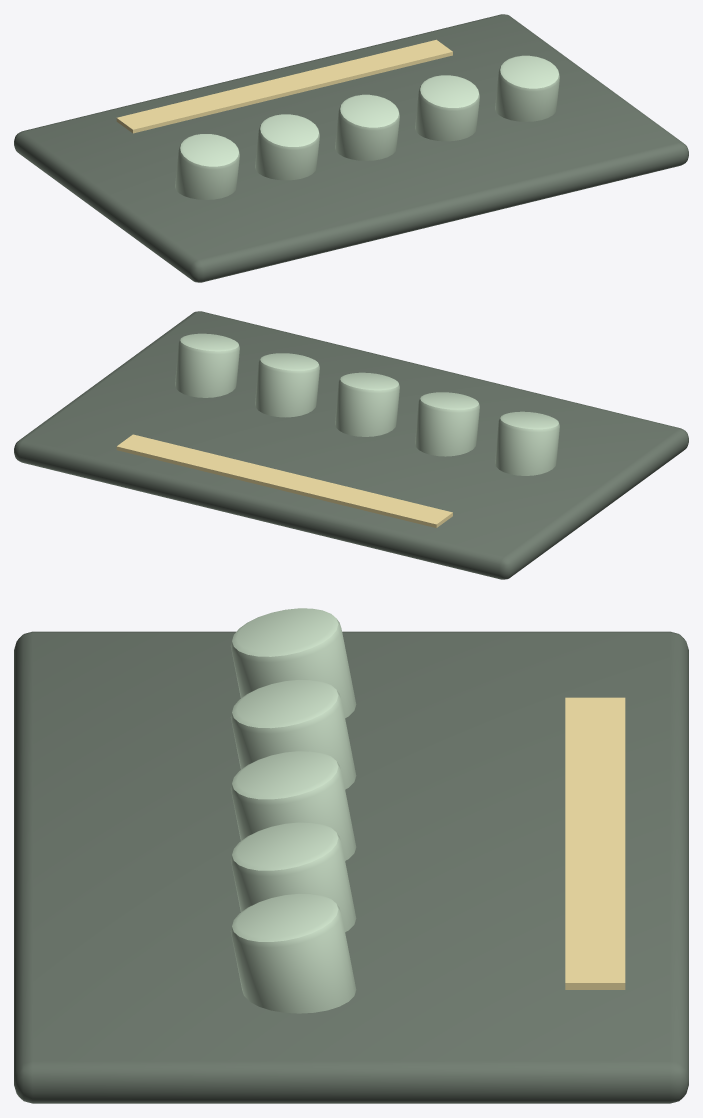
The model's file is set-matcha-glaze.glb.
The picture shows the model from 3 angles, top to bottom: view 1: azimuth 30°, elevation 25°; view 2: azimuth 150°, elevation 25°; view 3: azimuth 270°, elevation 25°; orthographic projection. The views are drawn at different scales.
Parts seen in each view (by area): view 1: matcha_VelvetCard, matcha_GoldBar, matcha_Tip_2, matcha_Tip_4, matcha_Tip_1, matcha_Tip_3, matcha_Tip_0; view 2: matcha_VelvetCard, matcha_GoldBar, matcha_Tip_1, matcha_Tip_3, matcha_Tip_4, matcha_Tip_2, matcha_Tip_0; view 3: matcha_VelvetCard, matcha_GoldBar, matcha_Tip_4, matcha_Tip_0, matcha_Tip_2, matcha_Tip_3, matcha_Tip_1.
Boxes of the visible parts, box(x1,y1,x2,y2) form: matcha_VelvetCard: box(14, 14, 688, 282); matcha_GoldBar: box(116, 39, 452, 133); matcha_Tip_2: box(335, 94, 399, 160); matcha_Tip_4: box(495, 55, 559, 121); matcha_Tip_1: box(255, 114, 319, 180); matcha_Tip_3: box(415, 75, 479, 141); matcha_Tip_0: box(175, 134, 239, 199); matcha_VelvetCard: box(14, 311, 688, 579); matcha_GoldBar: box(116, 434, 452, 527); matcha_Tip_1: box(415, 392, 479, 456); matcha_Tip_3: box(255, 353, 319, 417); matcha_Tip_4: box(175, 333, 239, 397); matcha_Tip_2: box(335, 372, 399, 436); matcha_Tip_0: box(495, 411, 559, 475); matcha_VelvetCard: box(14, 631, 688, 1103); matcha_GoldBar: box(565, 697, 625, 989); matcha_Tip_4: box(230, 893, 356, 1013); matcha_Tip_0: box(230, 608, 356, 718); matcha_Tip_2: box(230, 751, 356, 860); matcha_Tip_3: box(230, 822, 356, 931); matcha_Tip_1: box(230, 679, 356, 789).
Size of the model in its own units: 0.28 by 0.036 by 0.18.
